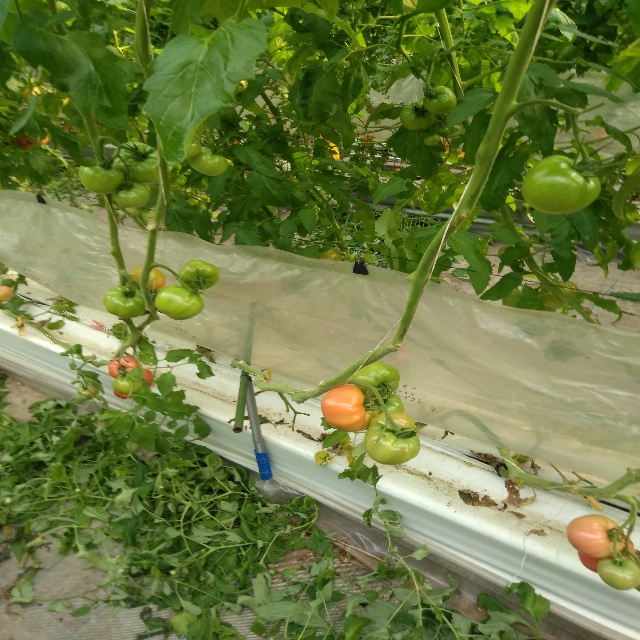b_green: (521, 155, 601, 214), (364, 411, 420, 465), (111, 142, 160, 184), (154, 285, 204, 320), (597, 554, 640, 591), (79, 160, 125, 194), (353, 362, 400, 395), (103, 284, 145, 319), (178, 260, 220, 290), (188, 147, 229, 176), (399, 101, 436, 131), (113, 180, 151, 208), (424, 86, 457, 115), (373, 393, 404, 414), (112, 374, 144, 394), (424, 134, 440, 146)
b_half_ripened: (321, 385, 380, 432), (566, 514, 625, 558), (127, 268, 165, 294), (109, 356, 141, 378), (0, 286, 14, 302)
